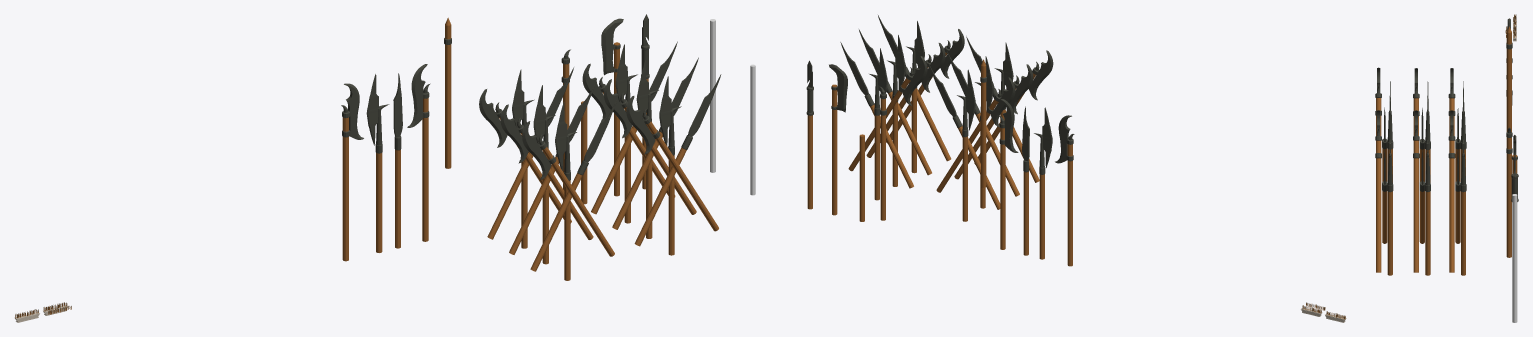
File: spikes sem plataforma.fbx
3 views of the same model, side by side, from view 1: azimuth 30°, elevation 25°; view 2: azimuth 150°, elevation 25°; view 3: azimuth 270°, elevation 25° (orthographic). The views are drawn at different scales.
Visible parts, largest first — view 1: Cylinder.010, Cylinder.009, Cylinder.007, Cylinder.011, Cylinder.012, Cylinder.008, Cylinder.017, Cylinder, Cylinder.004, Cylinder.003, Cylinder.006, Cylinder.016 (+4 smaller); view 2: Cylinder.012, Cylinder.008, Cylinder.007, Cylinder.009, Cylinder.011, Cylinder.010, Cylinder.003, Cylinder.017, Cylinder, Cylinder.004, Cylinder.001, Cylinder.006 (+4 smaller); view 3: Cylinder.007, Cylinder.009, Cylinder.008, Cylinder.011, Cylinder.012, Cylinder.010, Cylinder.013, Cylinder.002, Cylinder.016, Cylinder.001, Cylinder.003.
Part boxes in pixels (left/top/right/bottom): Cylinder.010: left=522, top=100, right=616, bottom=280; Cylinder.009: left=626, top=74, right=721, bottom=255; Cylinder.007: left=604, top=57, right=698, bottom=238; Cylinder.011: left=500, top=83, right=595, bottom=264; Cylinder.012: left=479, top=67, right=573, bottom=248; Cylinder.008: left=582, top=41, right=677, bottom=223; Cylinder.017: left=407, top=64, right=430, bottom=241; Cylinder: left=341, top=83, right=363, bottom=261; Cylinder.004: left=366, top=74, right=389, bottom=252; Cylinder.003: left=601, top=18, right=623, bottom=196; Cylinder.006: left=393, top=73, right=402, bottom=248; Cylinder.016: left=444, top=17, right=451, bottom=168; Cylinder.012: left=928, top=63, right=1015, bottom=221; Cylinder.008: left=840, top=42, right=927, bottom=200; Cylinder.007: left=859, top=29, right=945, bottom=186; Cylinder.009: left=878, top=15, right=964, bottom=173; Cylinder.011: left=946, top=50, right=1033, bottom=208; Cylinder.010: left=966, top=36, right=1053, bottom=182; Cylinder.003: left=829, top=64, right=847, bottom=215; Cylinder.017: left=999, top=99, right=1018, bottom=249; Cylinder: left=1055, top=115, right=1074, bottom=266; Cylinder.004: left=1034, top=107, right=1052, bottom=259; Cylinder.001: left=806, top=60, right=813, bottom=209; Cylinder.006: left=1022, top=106, right=1029, bottom=255; Cylinder.007: left=1413, top=110, right=1430, bottom=275; Cylinder.009: left=1375, top=110, right=1393, bottom=275; Cylinder.008: left=1448, top=110, right=1466, bottom=275; Cylinder.011: left=1413, top=68, right=1430, bottom=182; Cylinder.012: left=1448, top=68, right=1466, bottom=181; Cylinder.010: left=1375, top=67, right=1393, bottom=182; Cylinder.013: left=1506, top=127, right=1512, bottom=257; Cylinder.002: left=1512, top=194, right=1517, bottom=322; Cylinder.016: left=1506, top=26, right=1512, bottom=131; Cylinder.001: left=1511, top=149, right=1518, bottom=201; Cylinder.003: left=1511, top=135, right=1517, bottom=173.
Bounding box in the file's own units: 666 × 202 × 141.
